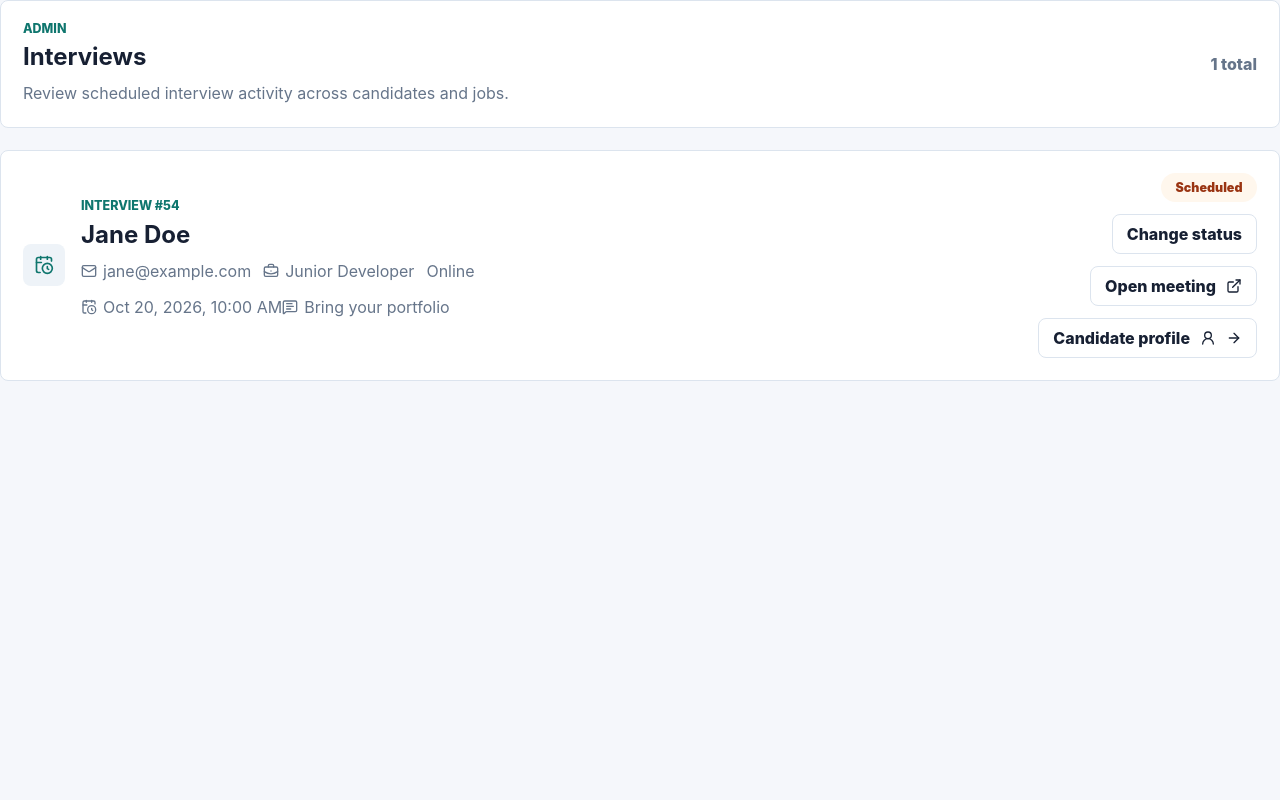
AdminInterviewsPage › updates an interview status and refreshes the interface
Expected: the link "Jane Doe" is shown, [81,220,190,249]
Step 1. Click the button "Change status" → (1184, 234), box [1112,214,1257,254]
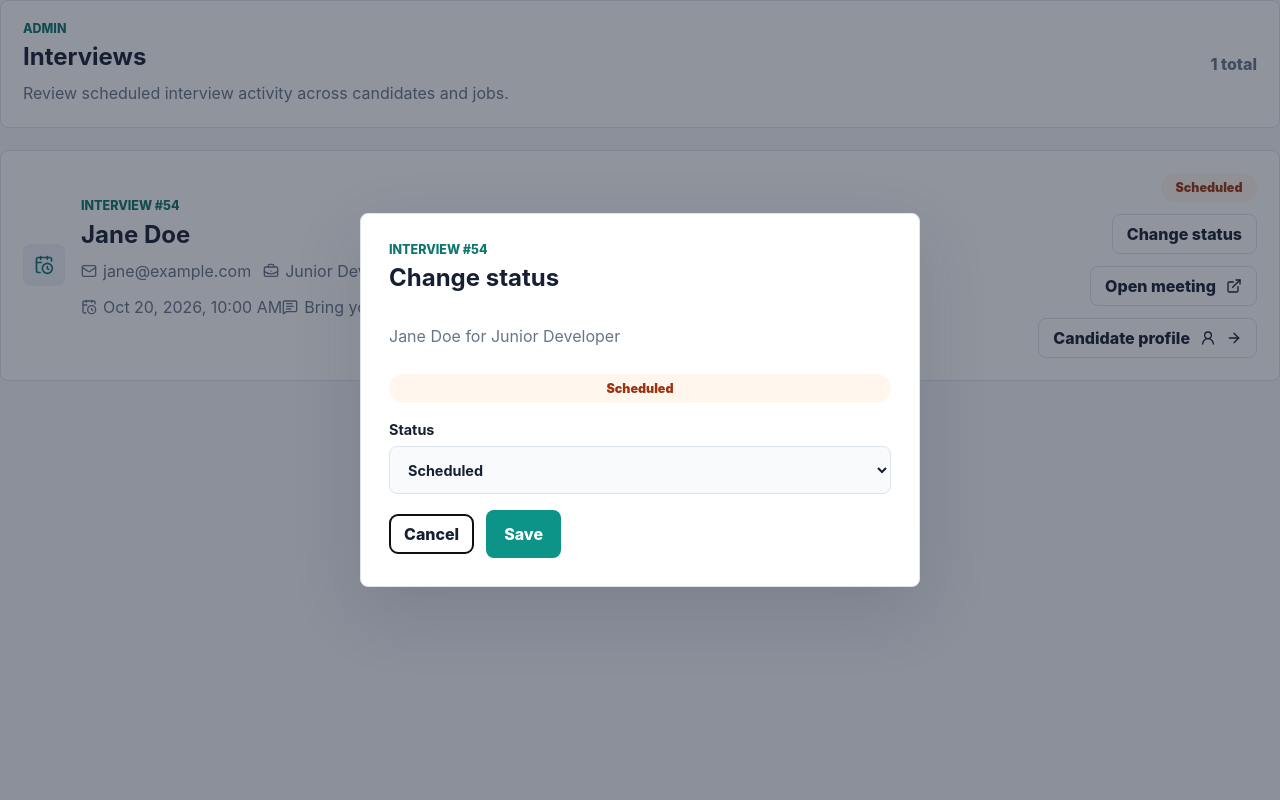
Expected: the dialog is shown, [360,213,920,587]
Step 2. Select "Completed" in the dropdown labelled "Status" → (640, 470), box [389,446,891,494]
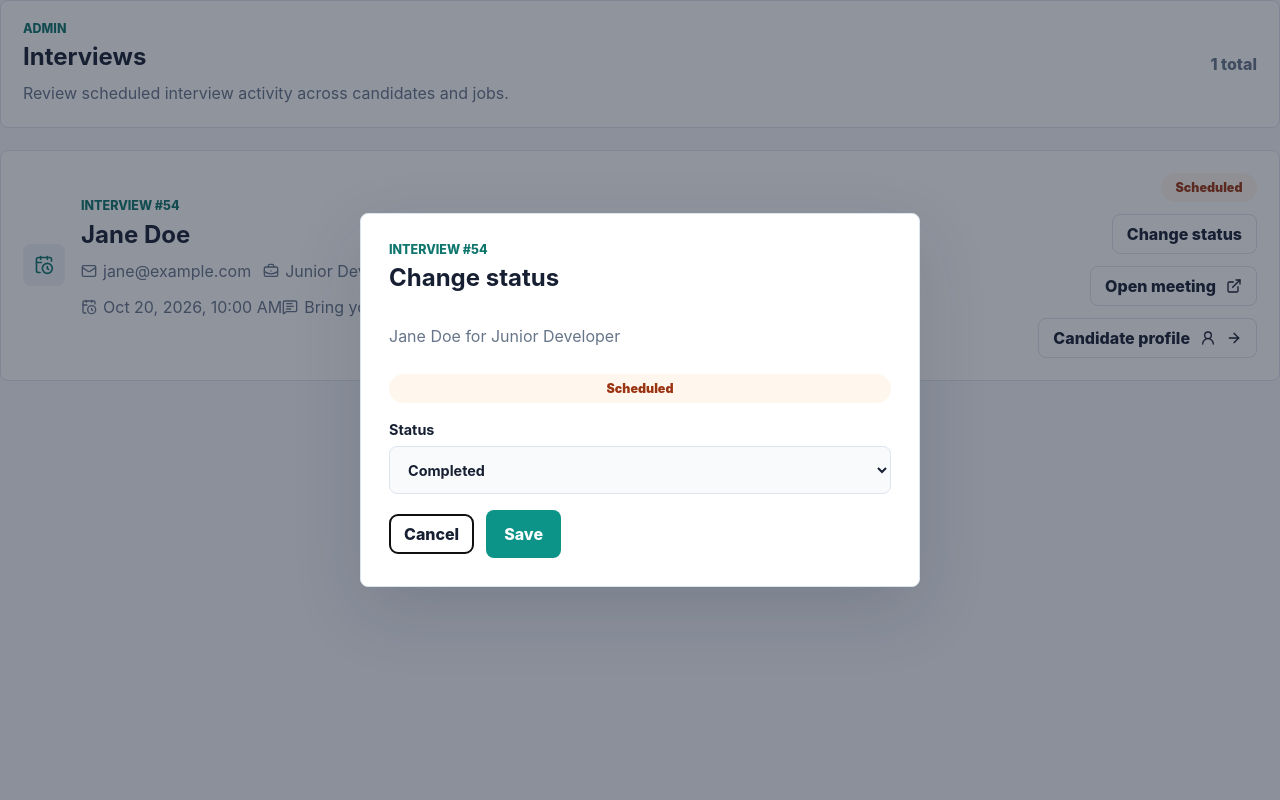
Step 3. Click the button "Save" → (524, 534), box [486,510,561,558]
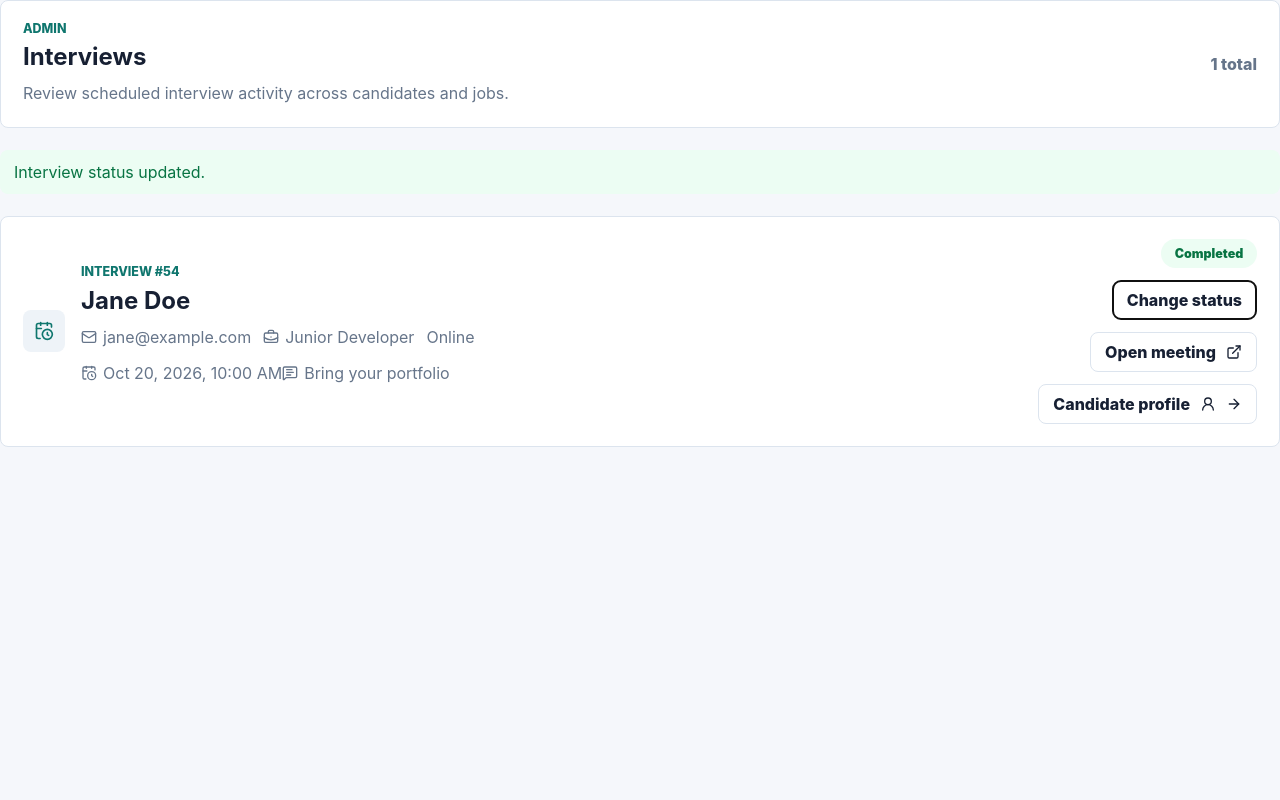
Expected: the text "Interview status updated." is shown, [0,150,1279,194]
Expected: the dialog is gone
Expected: the text "Completed" is shown, [1161,239,1257,268]
